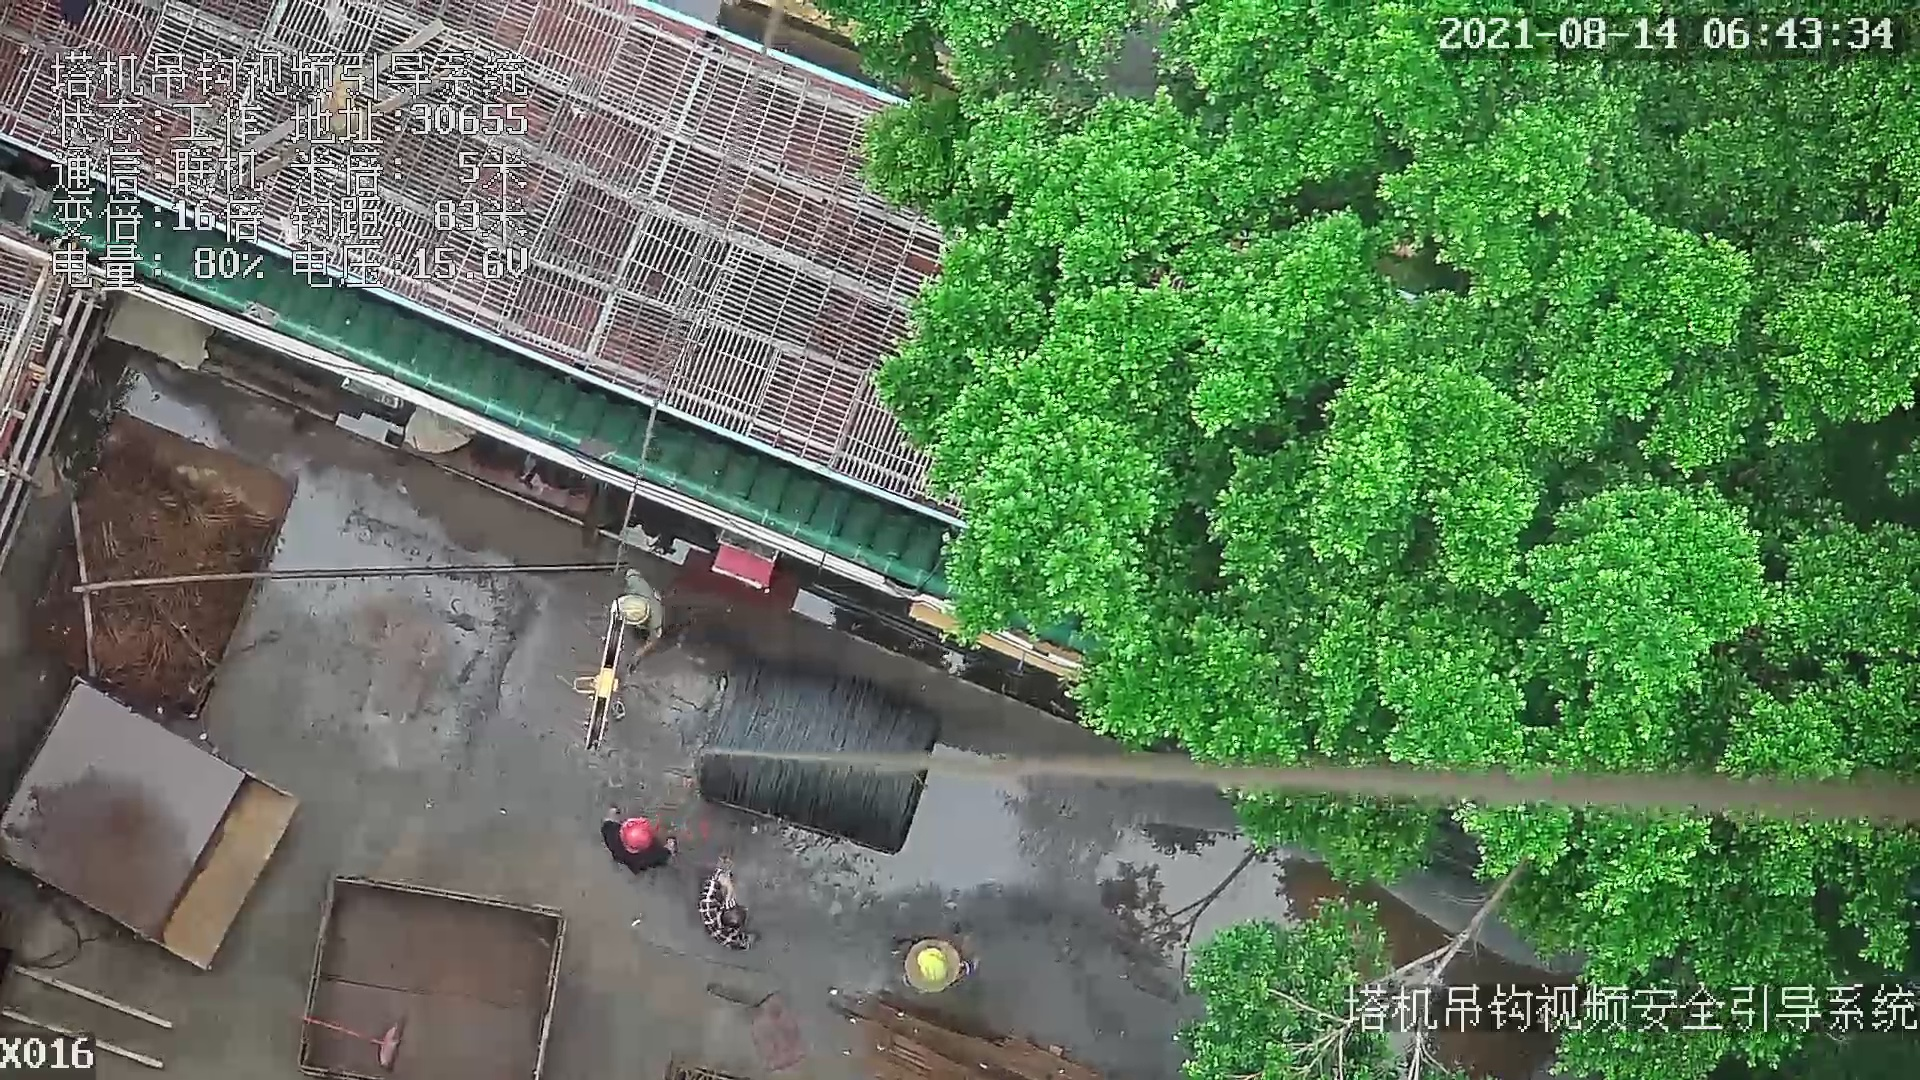helmet: (614, 587, 647, 635), (915, 946, 959, 983), (623, 817, 654, 852)
hook: (572, 608, 624, 756)
person: (886, 931, 986, 1003), (688, 856, 765, 951), (583, 805, 686, 869), (615, 565, 670, 668)
